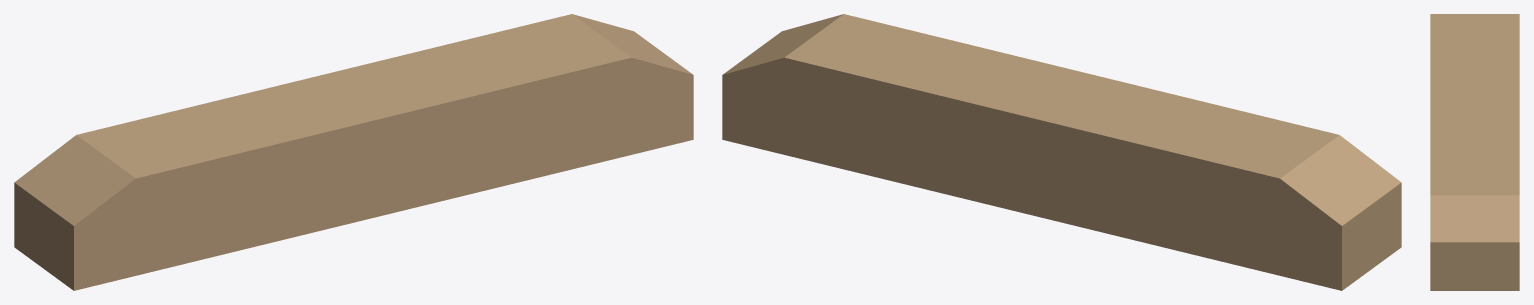
Rendered from prop-cart-bolster-blank.fbx.
The picture shows the model from 3 angles, left to right: view 1: azimuth 30°, elevation 25°; view 2: azimuth 150°, elevation 25°; view 3: azimuth 270°, elevation 25°; orthographic projection. The views are drawn at different scales.
Visible parts, largest first — view 1: prop-cart-bolster-blank; view 2: prop-cart-bolster-blank; view 3: prop-cart-bolster-blank.
Part boxes in pixels (left/top/right/bottom): prop-cart-bolster-blank: left=14, top=14, right=693, bottom=290; prop-cart-bolster-blank: left=722, top=14, right=1401, bottom=290; prop-cart-bolster-blank: left=1430, top=14, right=1519, bottom=290.
Bounding box in the file's own units: 60 × 9 × 10.
